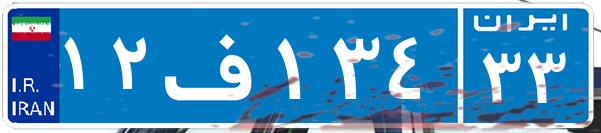1: (273, 28, 330, 110), (57, 26, 110, 107)
2: (110, 28, 158, 105)
3: (330, 28, 385, 110), (475, 38, 525, 113), (525, 38, 570, 115)
4: (385, 28, 445, 110)
ف: (158, 15, 273, 115)
